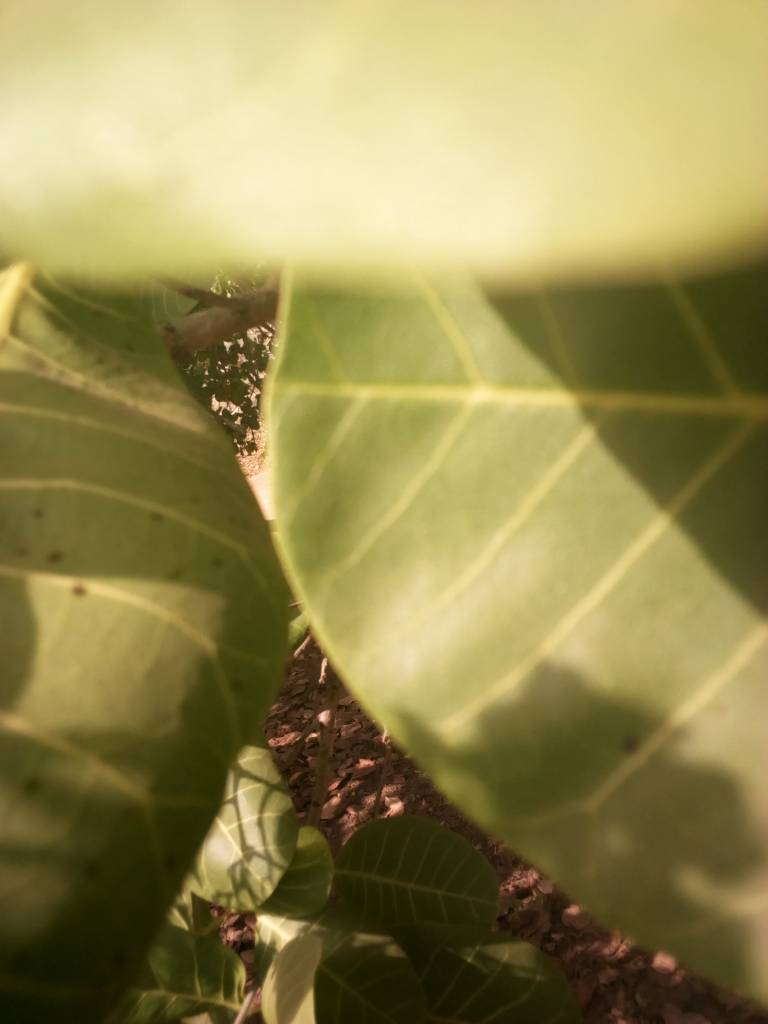Anthracnose: (2, 300, 285, 1024)
